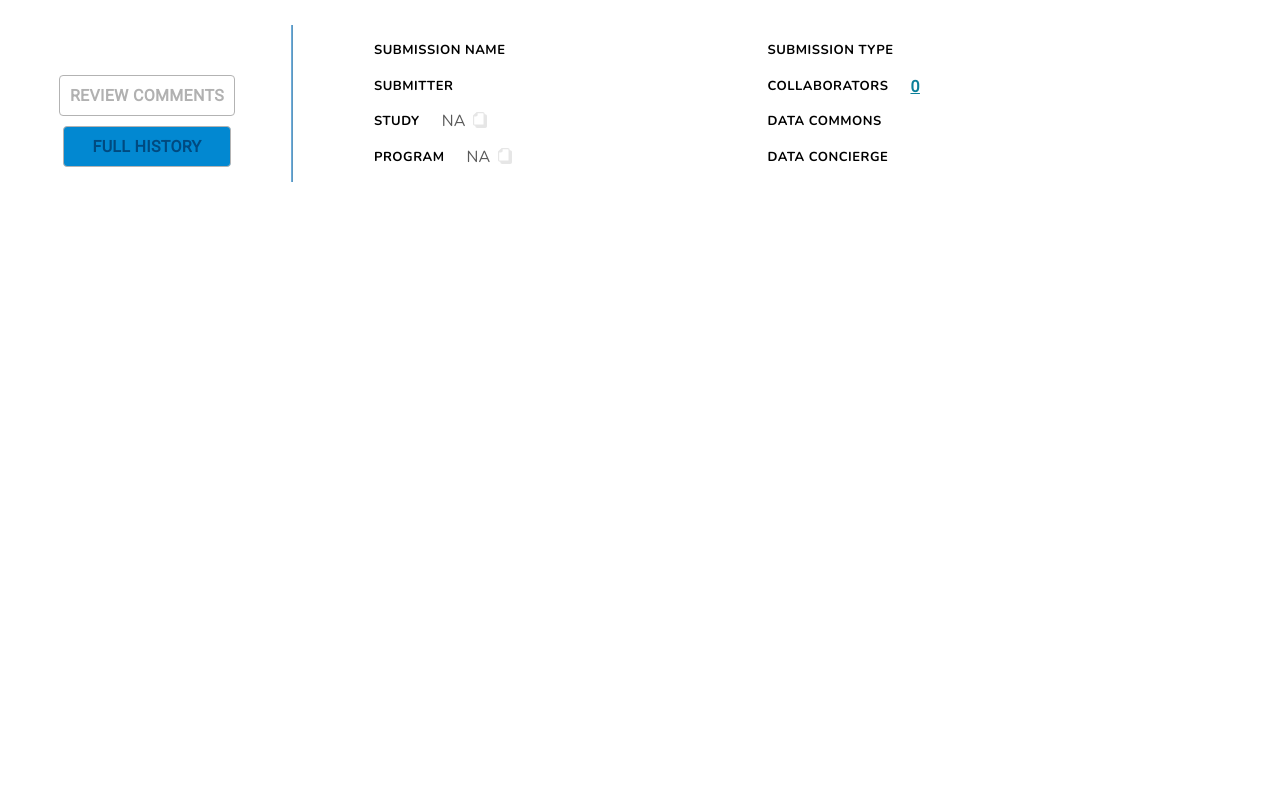
DataSubmissionSummary History Dialog Tests › closes the History dialog with the close button
Step 1. Click the button "Full History" → (147, 146), box [63,126,231,167]
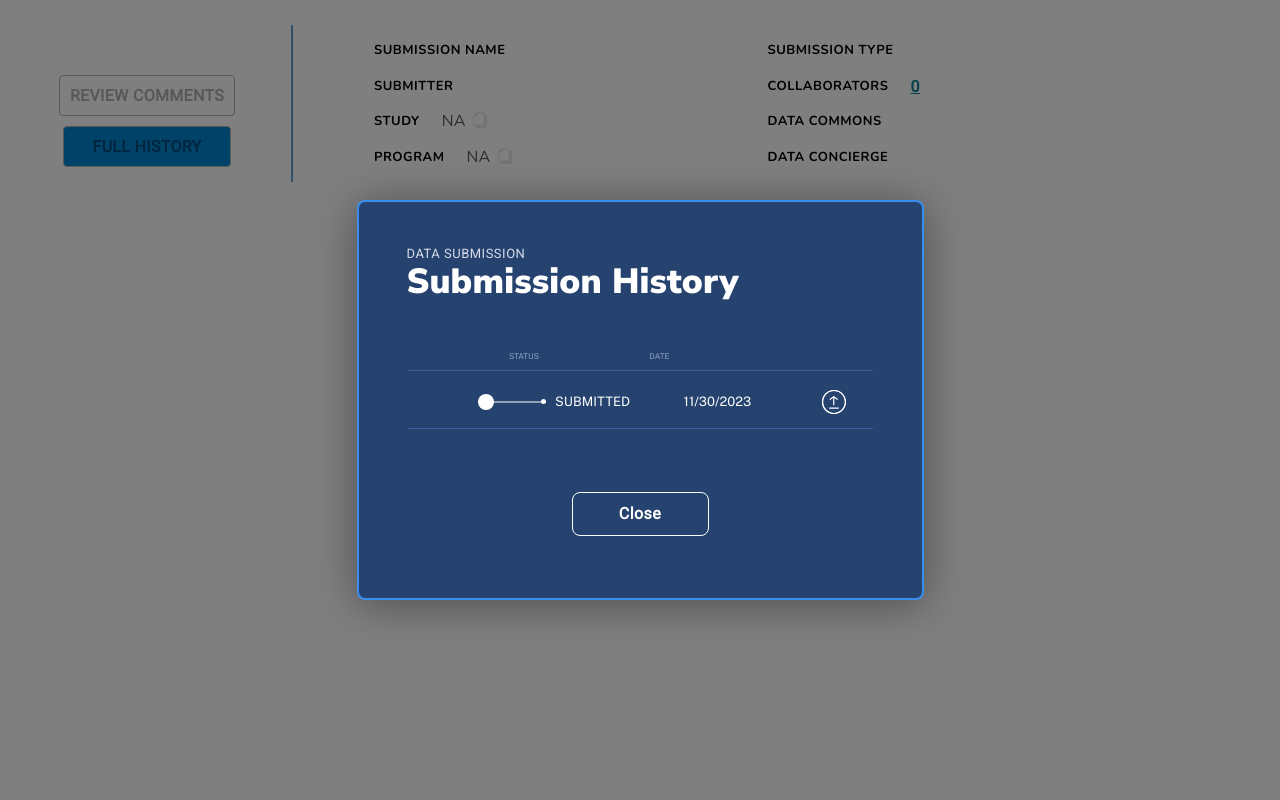
Check: the element with test id "history-dialog" is shown
Step 2. Click the button with test id "history-dialog-close" → (640, 514), box [572,492,708,536]
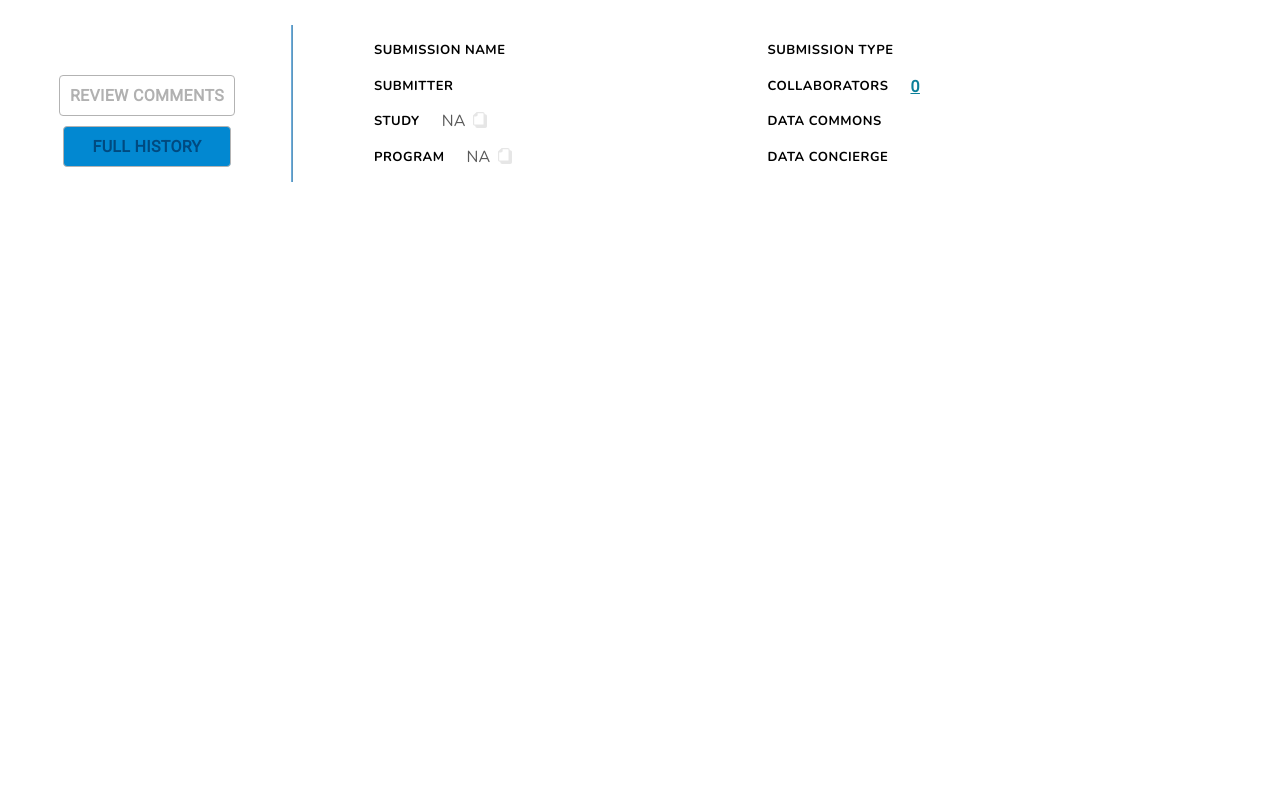
Check: the element with test id "history-dialog" is gone
